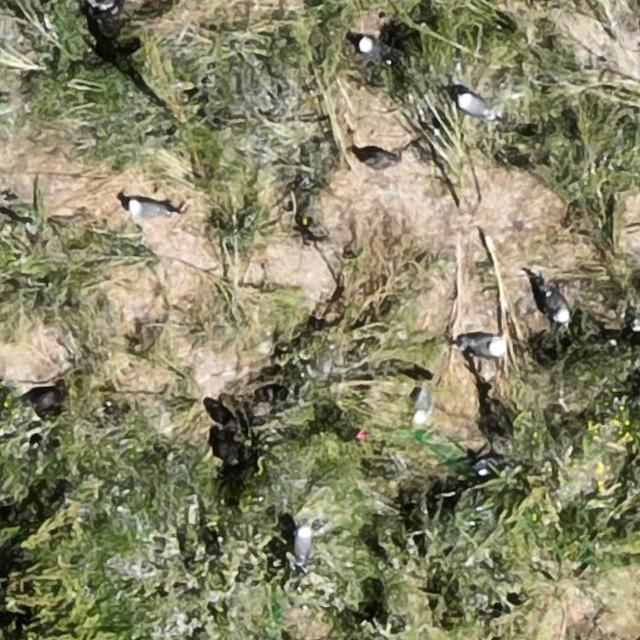umineko: (546, 288, 570, 323), (462, 336, 503, 356), (459, 94, 493, 117), (359, 39, 388, 61), (129, 201, 165, 218), (295, 528, 312, 563), (413, 390, 430, 423)
